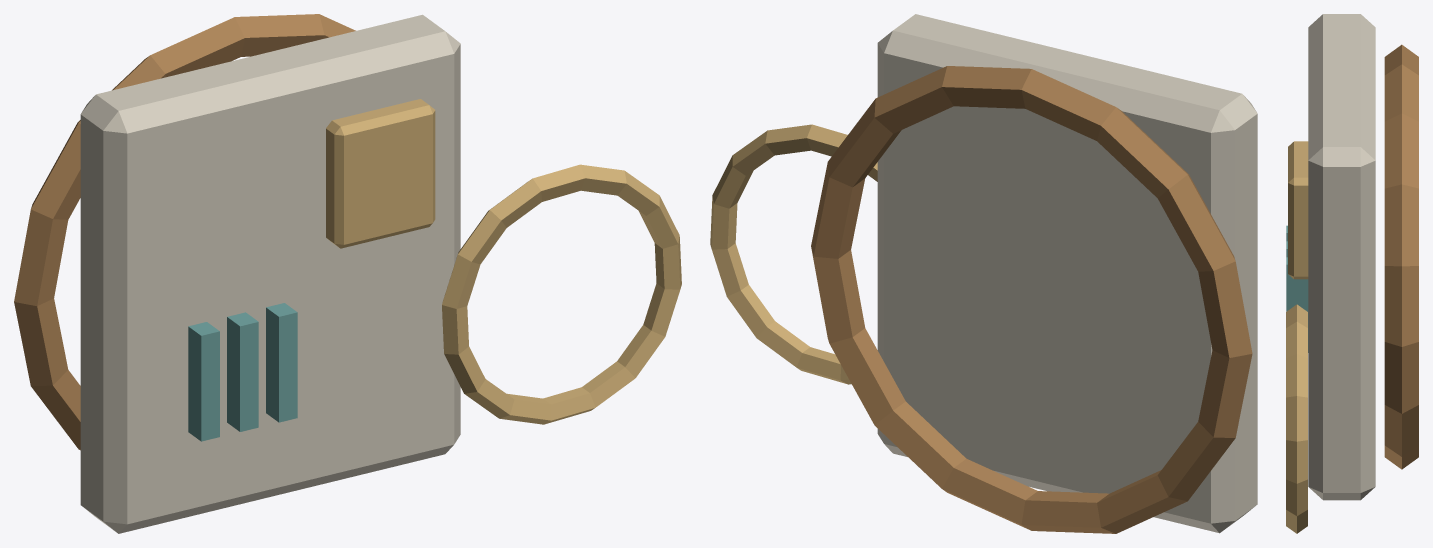
Rendered from longneck_doctor.glb.
The picture shows the model from 3 angles, left to right: view 1: azimuth 30°, elevation 25°; view 2: azimuth 150°, elevation 25°; view 3: azimuth 270°, elevation 25°; orthographic projection. The views are drawn at different scales.
Visible parts, largest first — view 1: longneck_doctor; view 2: longneck_doctor; view 3: longneck_doctor.
Boxes of the visible parts, <box> form: longneck_doctor: <box>14,14,681,533</box>; longneck_doctor: <box>710,14,1257,533</box>; longneck_doctor: <box>1286,14,1418,533</box>.
Bounding box in the file's own units: 0.3892 × 0.284 × 0.0887.
